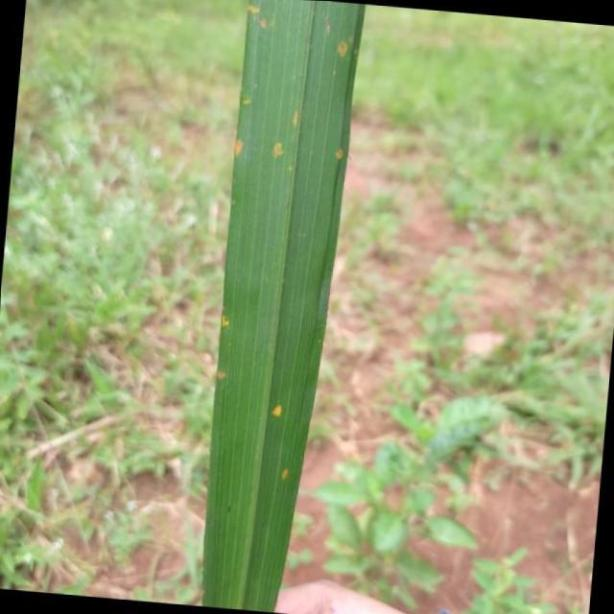Kalium: (200, 0, 366, 614)
